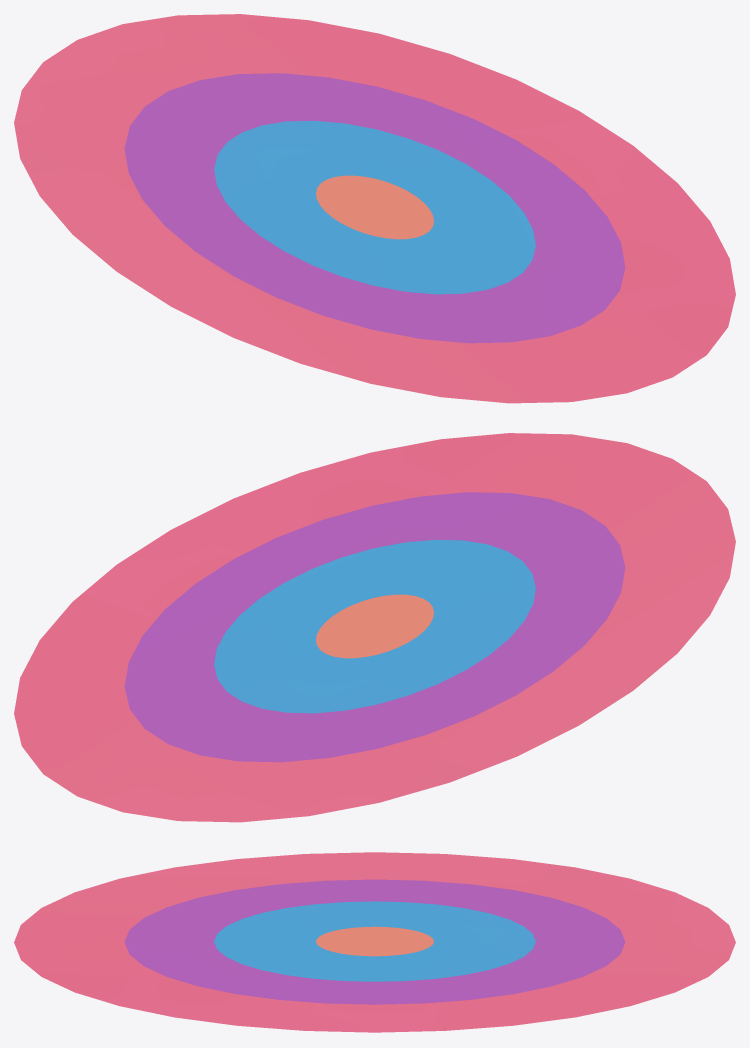
Rendered from Alfombra.obj.
The picture shows the model from 3 angles, top to bottom: view 1: azimuth 30°, elevation 25°; view 2: azimuth 150°, elevation 25°; view 3: azimuth 270°, elevation 25°; orthographic projection. The views are drawn at different scales.
Visible parts, largest first — view 1: Cilindro; view 2: Cilindro; view 3: Cilindro.
Boxes of the visible parts, left/top/right/bottom form: Cilindro: left=14, top=14, right=735, bottom=403; Cilindro: left=14, top=433, right=735, bottom=822; Cilindro: left=14, top=852, right=735, bottom=1032.
Size of the model in its own units: 2 by 0.0104 by 3.38.
Materials: 1 (1 with a texture image).
